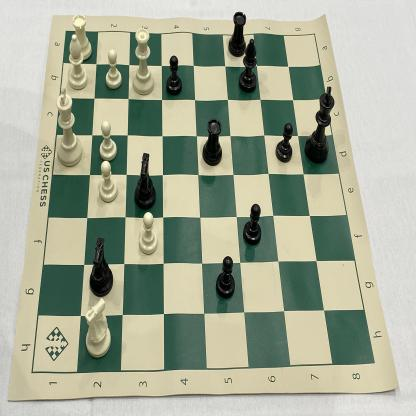black-bishop: (237, 38, 262, 96)
black-king: (303, 82, 338, 165)
black-knight: (85, 231, 117, 300), (132, 147, 160, 216)
black-pawn: (215, 251, 240, 303), (240, 198, 263, 250), (162, 53, 184, 101), (274, 118, 295, 166)
black-rook: (199, 115, 226, 171), (226, 7, 249, 60)
white-bishop: (64, 33, 90, 91)
white-king: (53, 84, 85, 170)
white-knight: (80, 295, 116, 364)
white-pawn: (102, 44, 127, 94), (136, 210, 162, 258), (96, 158, 121, 207), (96, 117, 120, 164)
white-queen: (129, 24, 159, 99)
white-rook: (69, 11, 96, 64)
